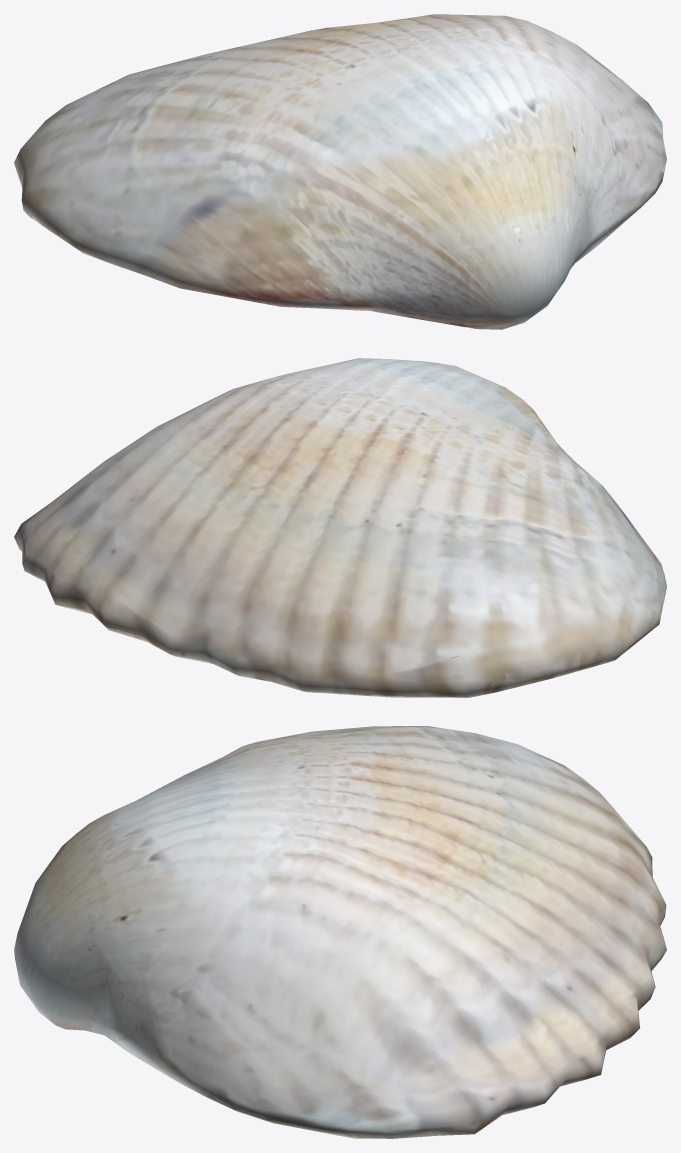
Rendered from Cockle1.fbx.
3 renders of one model, top to bottom at view 1: azimuth 30°, elevation 25°; view 2: azimuth 150°, elevation 25°; view 3: azimuth 270°, elevation 25°, orthographic. The views are drawn at different scales.
Parts seen in each view (by area): view 1: Cockle1_LOD0; view 2: Cockle1_LOD0; view 3: Cockle1_LOD0.
Boxes of the visible parts, x1,y1,x2,y2 form: Cockle1_LOD0: [14, 14, 666, 329]; Cockle1_LOD0: [14, 358, 666, 697]; Cockle1_LOD0: [14, 726, 666, 1138].
Size of what is drawn, in the model's own units: 22.4 by 7.14 by 18.44.
